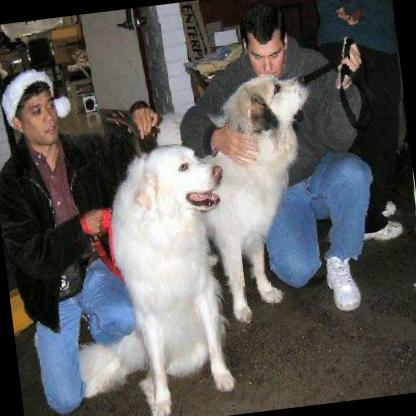Great_Pyrenees: (96, 133, 252, 416), (194, 69, 322, 326)
